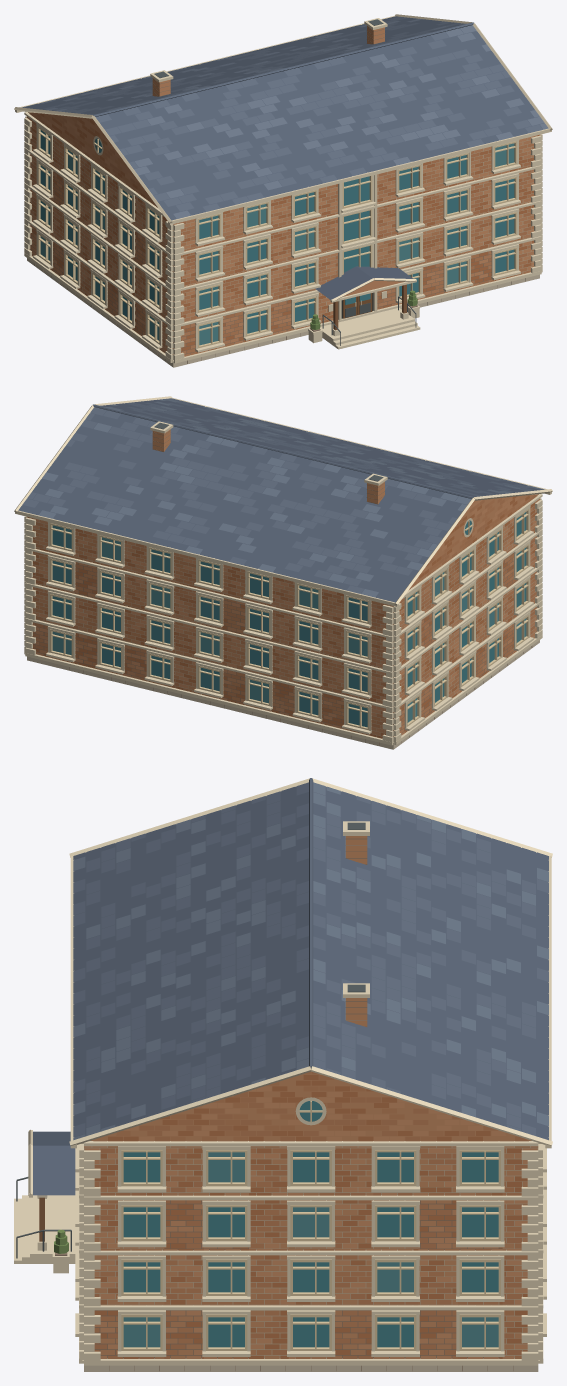
The model's file is SM_Dormitory_Blockout.fbx.
3 renders of one model, top to bottom at view 1: azimuth 30°, elevation 25°; view 2: azimuth 150°, elevation 25°; view 3: azimuth 270°, elevation 25°, orthographic. The views are drawn at different scales.
Visible parts, largest first — view 1: DORM_26_Slate_Courses, DORM_20_Brick_Front, DORM_25_Pitched_Roof, DORM_21_Stone_Strings, DORM_20_Brick_Left, DORM_03_Front_Windows_2, DORM_03_Front_Windows_3, DORM_03_Front_Windows_4, DORM_03_Front_Windows_1, DORM_22_Corner_Quoins, DORM_28_Stone_Bargeboards, DORM_05_Stair_Glazing (+23 smaller); view 2: DORM_26_Slate_Courses, DORM_20_Brick_Rear, DORM_25_Pitched_Roof, DORM_21_Stone_Strings, DORM_20_Brick_Left, DORM_03_Rear_Windows_1, DORM_03_Rear_Windows_3, DORM_03_Rear_Windows_2, DORM_03_Rear_Windows_4, DORM_22_Corner_Quoins, DORM_28_Stone_Bargeboards, DORM_03_Left_Windows_3 (+15 smaller); view 3: DORM_26_Slate_Courses, DORM_20_Brick_Right, DORM_25_Pitched_Roof, DORM_27_Gable_Brick, DORM_21_Stone_Strings, DORM_03_Right_Windows_3, DORM_03_Right_Windows_1, DORM_03_Right_Windows_4, DORM_03_Right_Windows_2, DORM_22_Corner_Quoins, DORM_28_Stone_Bargeboards, DORM_01_Plinth (+9 smaller).
Part boxes in pixels (box(x1,y1,x2,y2)): DORM_26_Slate_Courses: box(22, 16, 548, 220); DORM_20_Brick_Front: box(173, 134, 540, 356); DORM_25_Pitched_Roof: box(24, 17, 544, 218); DORM_21_Stone_Strings: box(24, 111, 542, 363); DORM_20_Brick_Left: box(27, 117, 173, 354); DORM_03_Front_Windows_2: box(195, 208, 520, 316); DORM_03_Front_Windows_3: box(195, 173, 520, 281); DORM_03_Front_Windows_4: box(195, 140, 520, 246); DORM_03_Front_Windows_1: box(195, 244, 520, 352); DORM_22_Corner_Quoins: box(24, 116, 542, 360); DORM_28_Stone_Bargeboards: box(14, 14, 552, 224); DORM_05_Stair_Glazing: box(341, 175, 376, 274); DORM_26_Slate_Courses: box(18, 398, 544, 602); DORM_20_Brick_Rear: box(26, 516, 393, 738); DORM_25_Pitched_Roof: box(22, 399, 542, 600); DORM_21_Stone_Strings: box(24, 493, 542, 745); DORM_20_Brick_Left: box(393, 499, 539, 736); DORM_03_Rear_Windows_1: box(46, 626, 371, 734); DORM_03_Rear_Windows_3: box(46, 555, 371, 663); DORM_03_Rear_Windows_2: box(46, 590, 371, 698); DORM_03_Rear_Windows_4: box(46, 522, 371, 628); DORM_22_Corner_Quoins: box(24, 498, 542, 742); DORM_28_Stone_Bargeboards: box(14, 396, 552, 606); DORM_03_Left_Windows_3: box(404, 540, 533, 659); DORM_26_Slate_Courses: box(73, 782, 548, 1140); DORM_20_Brick_Right: box(84, 1146, 538, 1358); DORM_25_Pitched_Roof: box(74, 786, 547, 1137); DORM_27_Gable_Brick: box(90, 1071, 531, 1141); DORM_21_Stone_Strings: box(79, 1141, 543, 1365); DORM_03_Right_Windows_3: box(117, 1200, 504, 1247); DORM_03_Right_Windows_1: box(117, 1310, 504, 1356); DORM_03_Right_Windows_4: box(117, 1146, 504, 1192); DORM_03_Right_Windows_2: box(117, 1255, 504, 1301); DORM_22_Corner_Quoins: box(79, 1144, 542, 1360); DORM_28_Stone_Bargeboards: box(69, 778, 552, 1148); DORM_01_Plinth: box(82, 1360, 539, 1371).
Bounding box in the file's own units: 2722 × 2135 × 1425.
